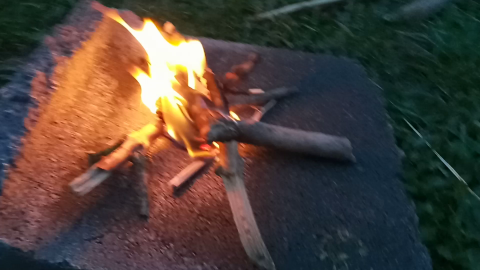fire: (114, 4, 220, 151)
